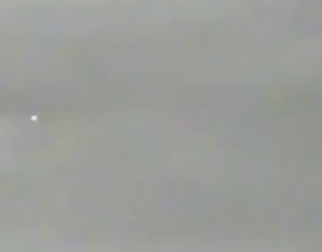Target: (32, 117, 37, 121)
